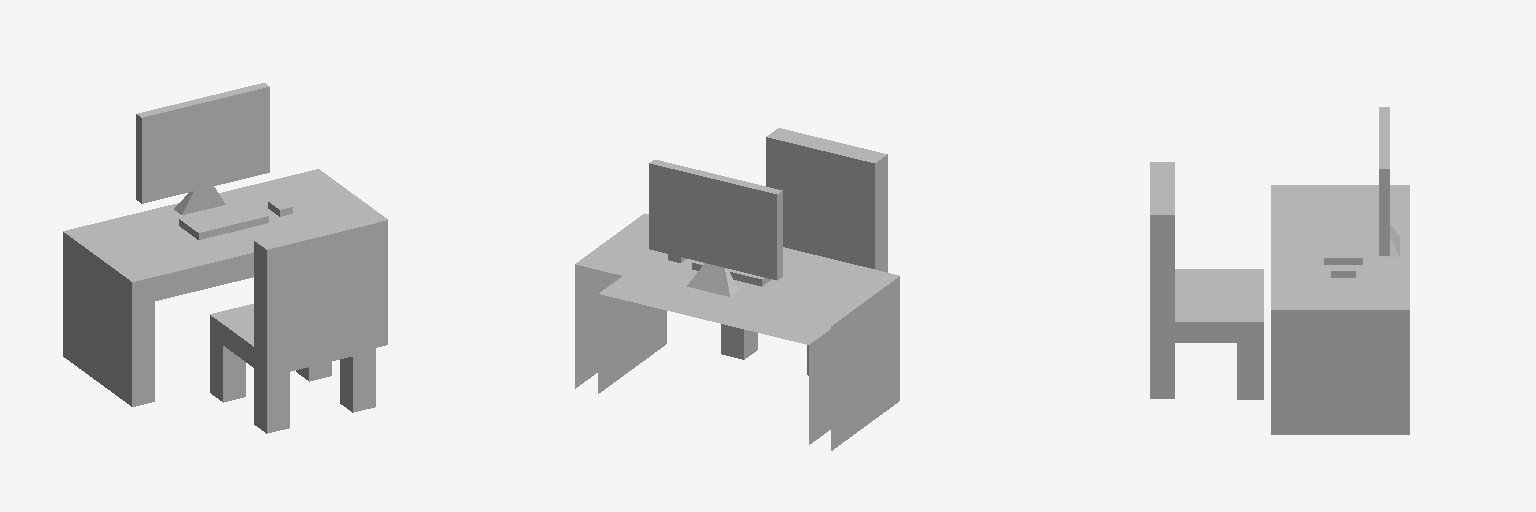
Rendered from HQ_study table.obj.
3 renders of one model, left to right at view 1: azimuth 30°, elevation 25°; view 2: azimuth 150°, elevation 25°; view 3: azimuth 270°, elevation 25°, orthographic.
Parts seen in each view (by area): view 1: HQ_study_table; view 2: HQ_study_table; view 3: HQ_study_table.
Part boxes in pixels (x1,y1,x2,y2): HQ_study_table: (63,83,387,433); HQ_study_table: (575,128,899,450); HQ_study_table: (1150,107,1409,434).
Bounding box in the file's own units: 5.46 × 4.79 × 4.82.